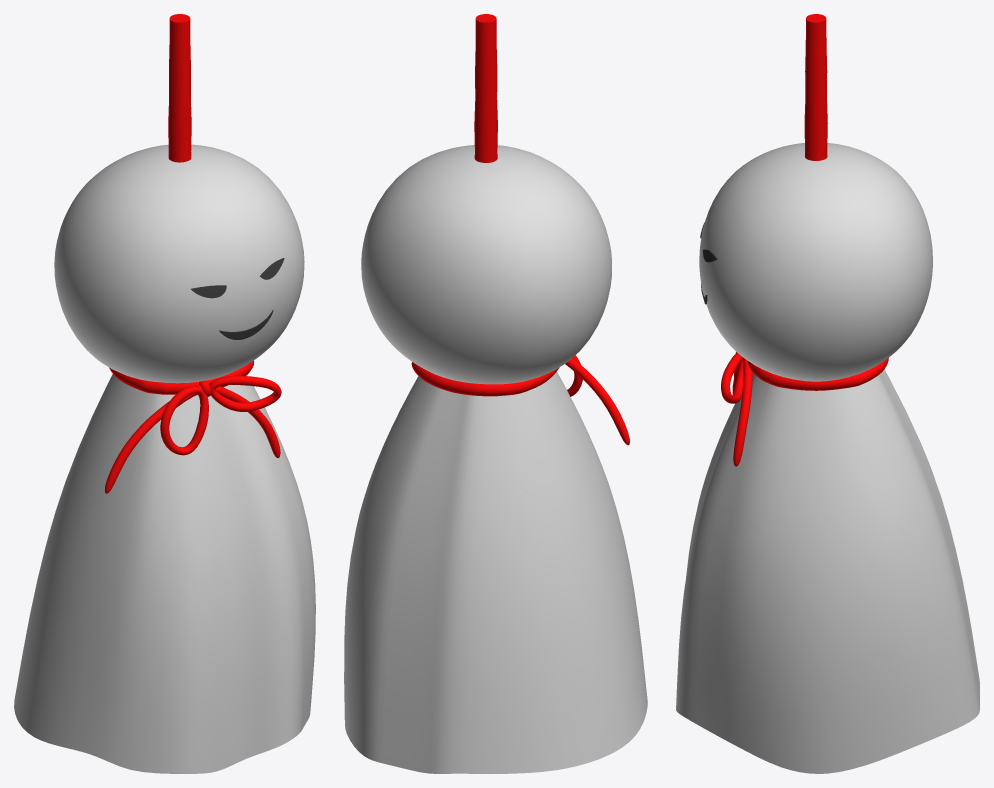
3 views of the same model, side by side, from view 1: azimuth 30°, elevation 25°; view 2: azimuth 150°, elevation 25°; view 3: azimuth 270°, elevation 25° (orthographic).
Visible parts, largest first — view 1: 006_teruterubouzu4; view 2: 006_teruterubouzu4; view 3: 006_teruterubouzu4.
Part boxes in pixels (bbox=[...]): 006_teruterubouzu4: bbox=[14, 14, 315, 773]; 006_teruterubouzu4: bbox=[344, 14, 647, 773]; 006_teruterubouzu4: bbox=[676, 14, 979, 773].
Bounding box in the file's own units: 0.0865 × 0.2218 × 0.0873.
